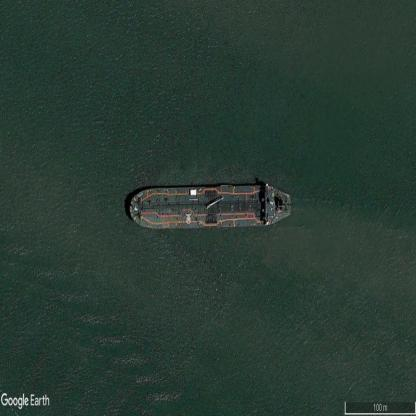ship: (129, 185, 291, 226)
